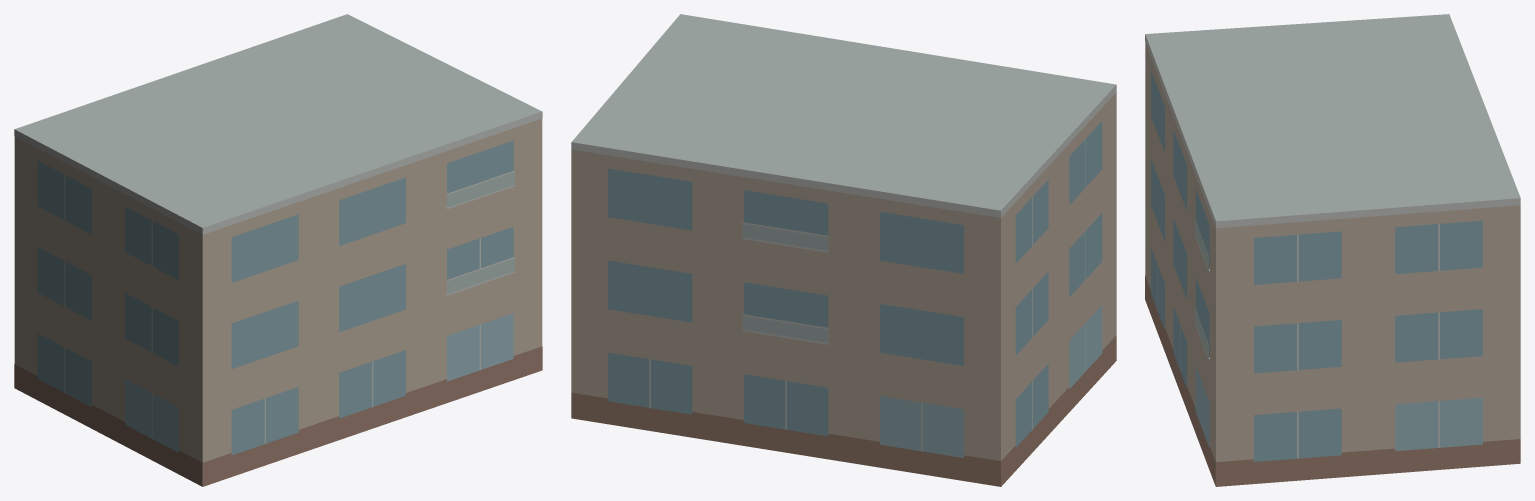
Rendered from survey-upis-32978758.glb.
3 renders of one model, left to right at view 1: azimuth 30°, elevation 25°; view 2: azimuth 150°, elevation 25°; view 3: azimuth 270°, elevation 25°, orthographic. The views are drawn at different scales.
Parts seen in each view (by area): view 1: survey-upis-32978758.tmp; view 2: survey-upis-32978758.tmp; view 3: survey-upis-32978758.tmp.
Part boxes in pixels (<box>): survey-upis-32978758.tmp: <box>14,14,542,486</box>; survey-upis-32978758.tmp: <box>571,14,1116,486</box>; survey-upis-32978758.tmp: <box>1145,14,1520,486</box>.
Size of the model in its own units: 15.33 by 9.15 by 11.74.
